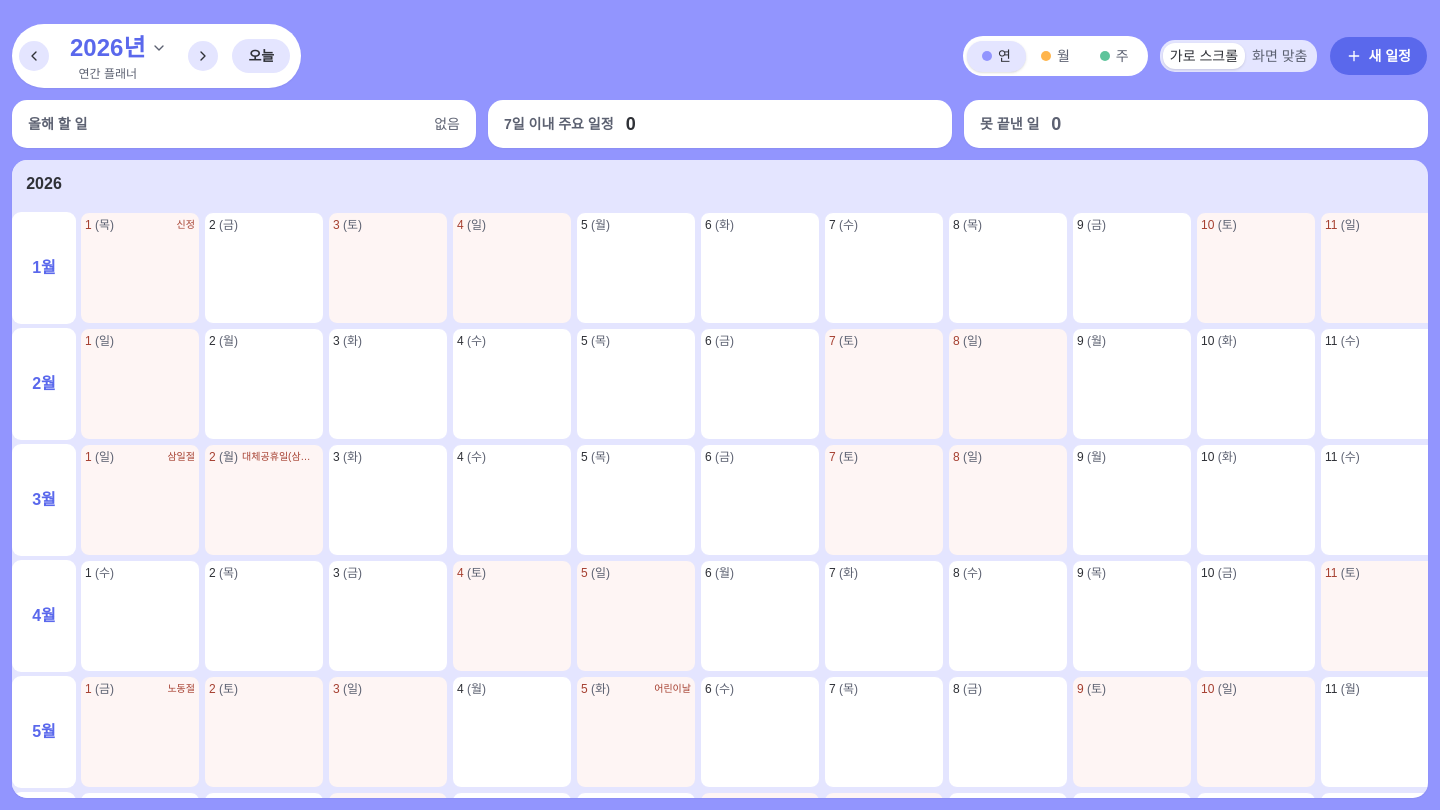
Test case: 접근성: 아이콘 버튼의 이름 › 일정 패널의 ‹ › X 버튼에 이름이 있다
Click the button titled "상세 일정 관리" at (596, 225), box [579,217,612,233]
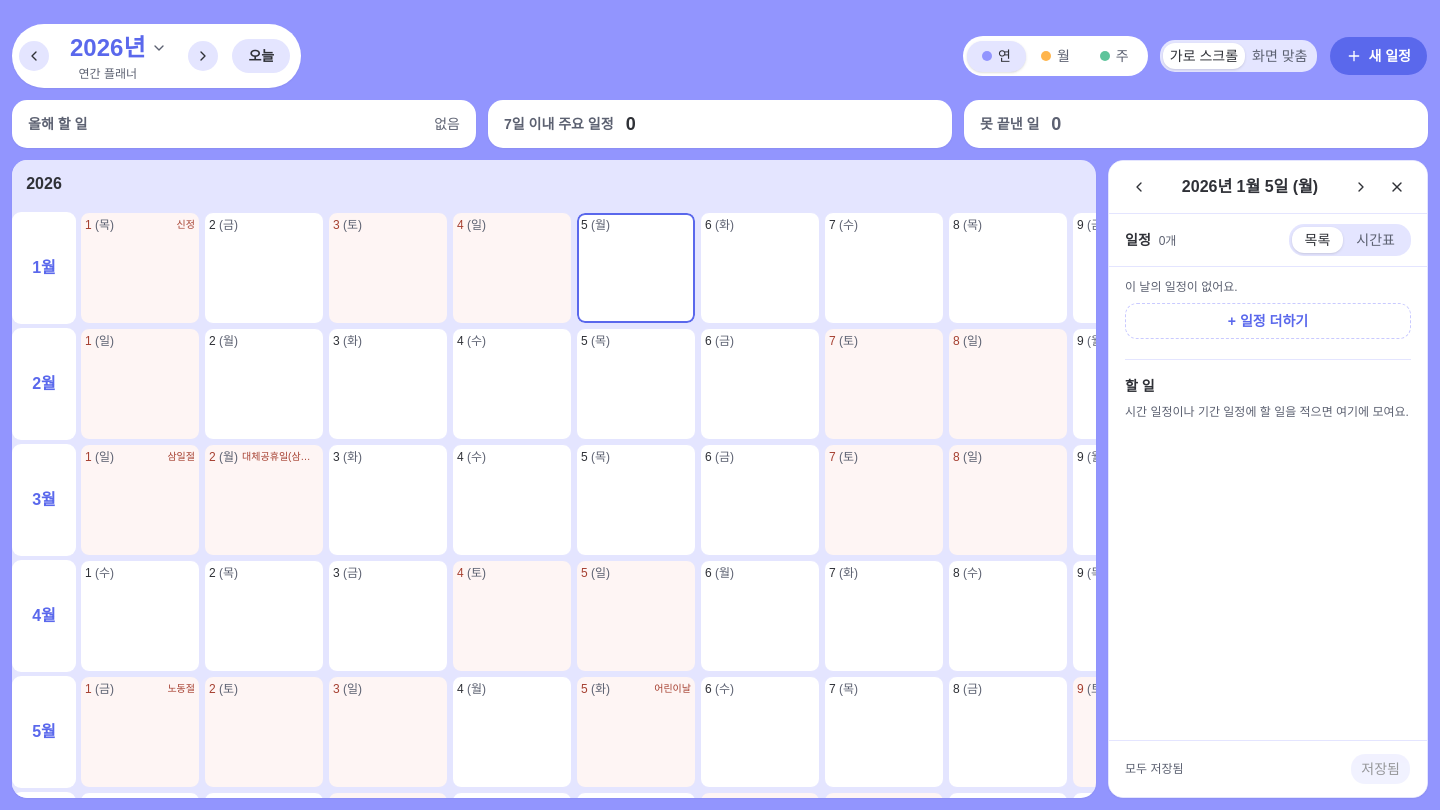
Now the button named "전날" is shown, box [1125,173,1153,201]
Now the button named "다음 날" is shown, box [1347,173,1375,201]
Now the button named "닫기" is shown, box [1383,173,1411,201]
